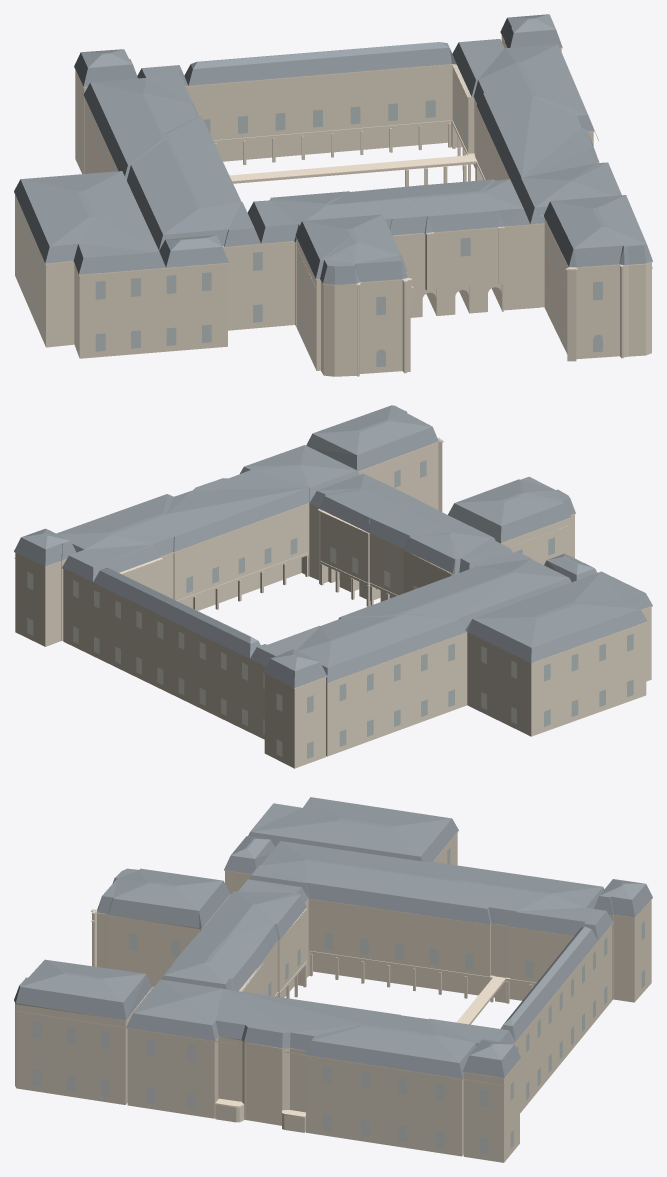
The picture shows the model from 3 angles, top to bottom: view 1: azimuth 30°, elevation 25°; view 2: azimuth 150°, elevation 25°; view 3: azimuth 270°, elevation 25°; orthographic projection. The views are drawn at different scales.
Visible parts, largest first — view 1: roof, stone, window, trim; view 2: roof, stone, window, trim; view 3: stone, roof, window, trim.
Boxes of the visible parts, x1,y1,x2,y2 form: roof: [14, 14, 652, 284]; stone: [15, 35, 651, 376]; window: [18, 91, 602, 366]; trim: [14, 32, 652, 288]; roof: [14, 405, 652, 688]; stone: [15, 438, 651, 768]; window: [27, 460, 633, 758]; trim: [14, 437, 652, 688]; stone: [15, 833, 651, 1162]; roof: [14, 797, 652, 1078]; window: [32, 848, 644, 1154]; trim: [14, 830, 652, 1118].
Size of the model in its own units: 171 by 30 by 166.
